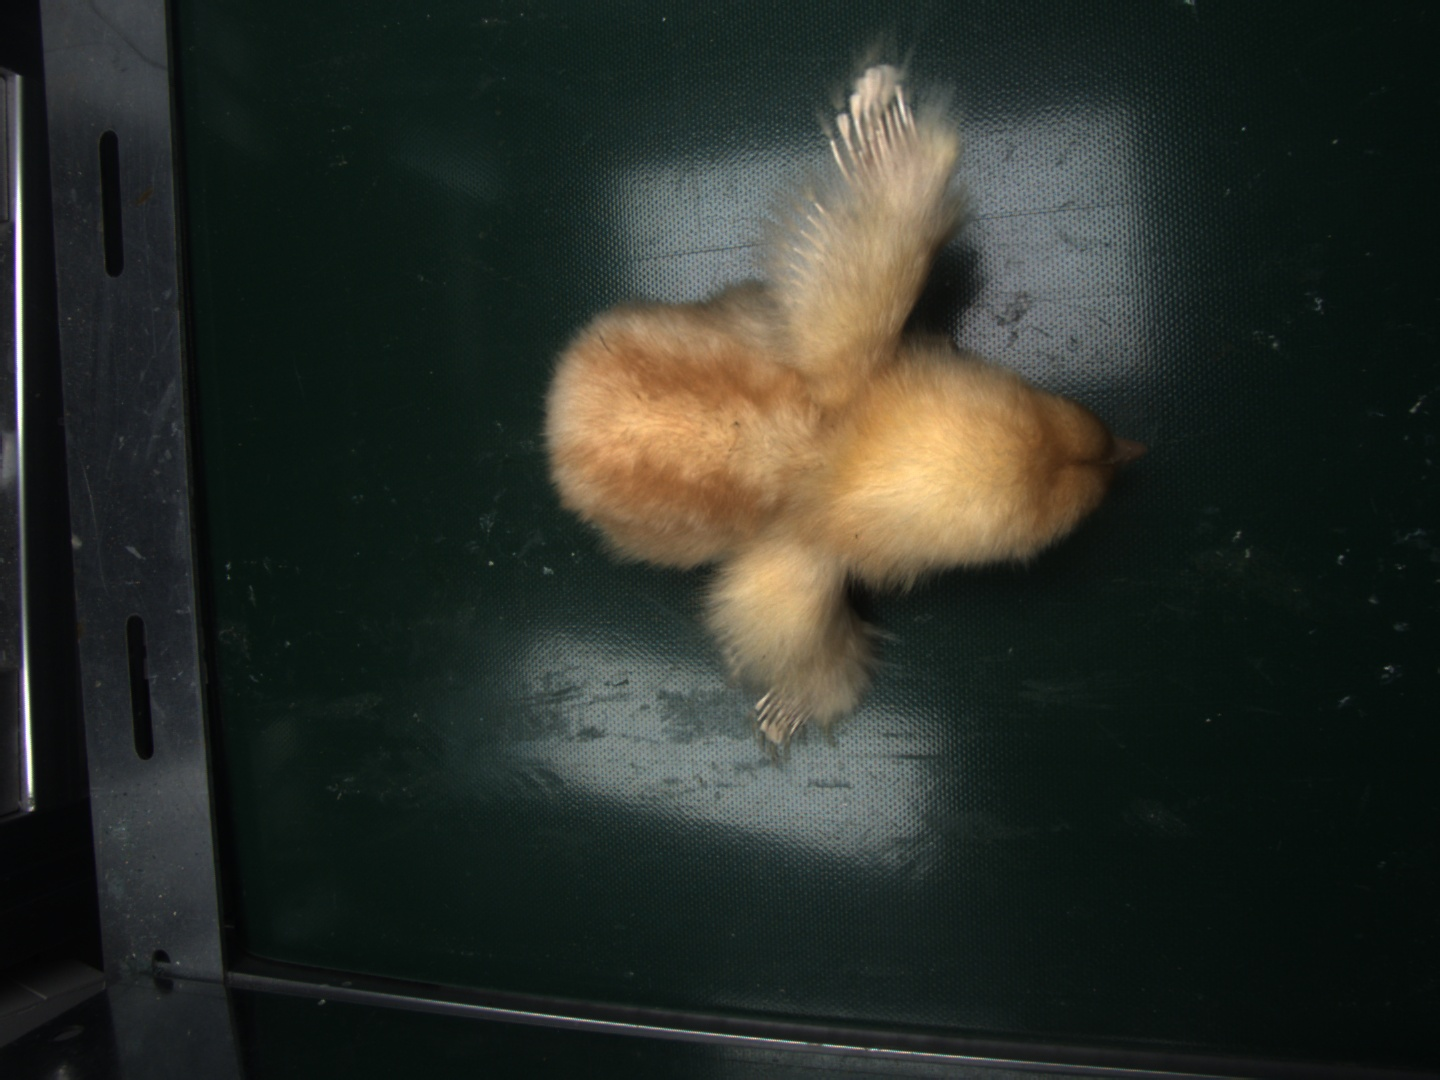female: (828, 66, 916, 167)
